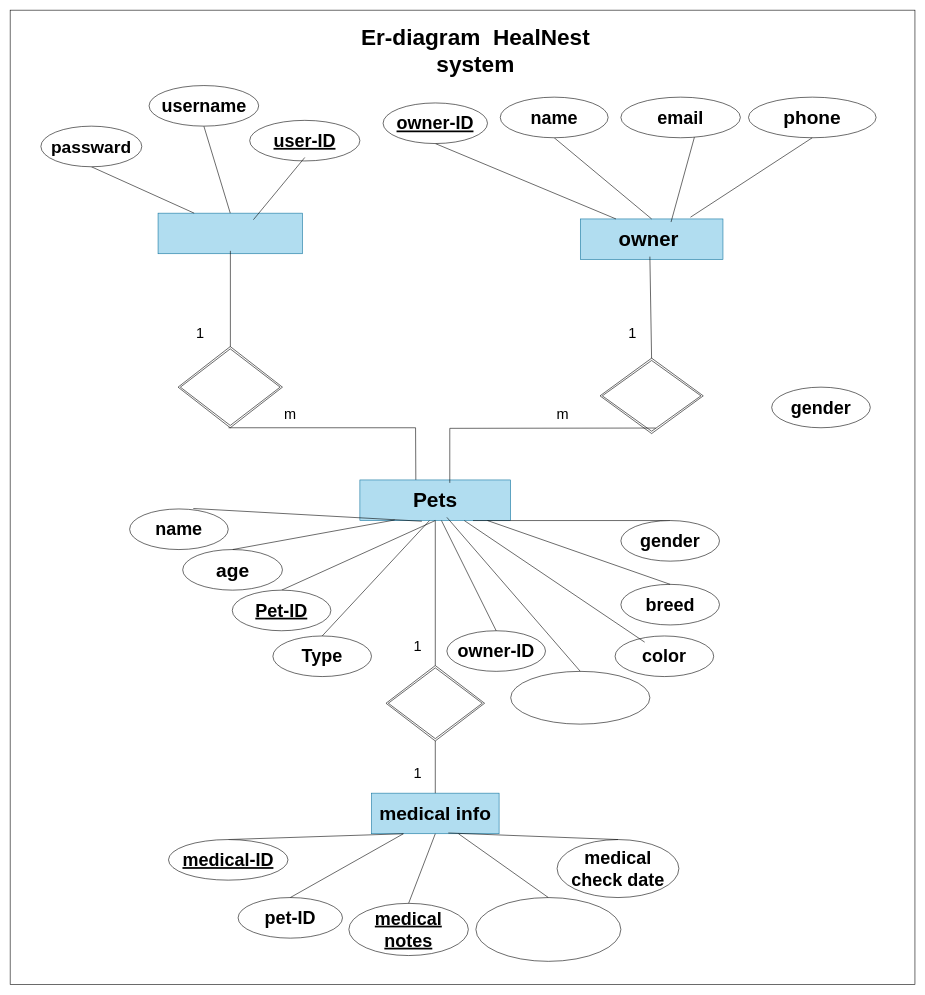
The diagram is 925 pixels wide and 995 high, and some of its shapes have lost their labels. The centre of each missing label's shape, as x and y in pixels:
"ADDS" belongs at (229,387).
"has a" belongs at (435,703).
"microchip number" belongs at (580,697).
"next checkup date" belongs at (548,929).
"OWNS" belongs at (651,396).
"user" belongs at (229,233).
